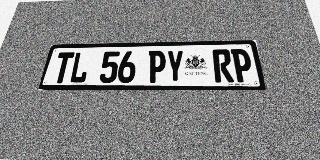5: (99, 51, 120, 83)
6: (117, 51, 137, 83)
L: (68, 52, 91, 83)
P: (231, 49, 254, 82), (147, 50, 166, 83)
R: (212, 49, 234, 82)
T: (51, 52, 75, 83)
Y: (166, 50, 184, 83)
